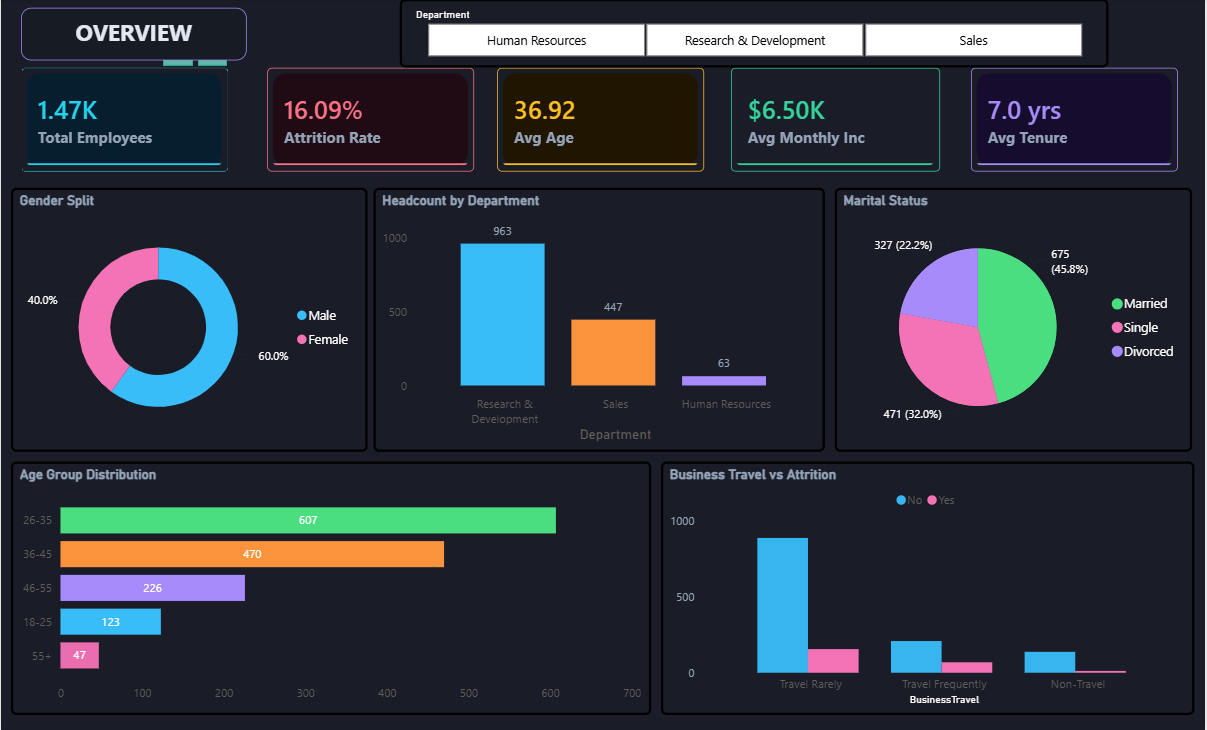

The page's visual inventory and layout, read from the dashboard file:
{"tool":"powerbi","page":{"name":"Overview","canvas":[1280,780],"ordinal":0},"visuals":[{"type":"cardVisual","fields":{"Data":["Count(HR_Analytics.EmpID)"]},"box":[21.3,73.1,220.7,110.3],"z":0},{"type":"cardVisual","fields":{"Data":["HR_Analytics.Avg Age"]},"box":[527.6,73.6,220,110],"z":1000},{"type":"cardVisual","fields":{"Data":["HR_Analytics.Avg Monthly Income"]},"box":[775.6,73.6,222,110],"z":2000},{"type":"cardVisual","fields":{"Data":["HR_Analytics.Attrition Rate"]},"box":[282.6,73.6,220,110],"z":3000},{"type":"cardVisual","fields":{"Data":["HR_Analytics.Avg Tenure"]},"box":[1031.6,73.6,220,110],"z":4000},{"type":"donutChart","title":"Gender Split","fields":{"Category":["HR_Analytics.Gender"],"Y":["HR_Analytics.Total Employees"]},"box":[10.6,200.7,378.8,280.5],"z":5000},{"type":"clusteredColumnChart","title":"Headcount by Department","fields":{"Y":["HR_Analytics.Total Employees"],"Category":["HR_Analytics.Department"]},"box":[396.1,200.7,479.9,280.5],"z":6000},{"type":"pieChart","title":"Marital Status","fields":{"Category":["HR_Analytics.MaritalStatus"],"Y":["HR_Analytics.Total Employees"]},"box":[886.6,200.7,380.2,280.5],"z":7000},{"type":"clusteredColumnChart","title":"Business Travel vs Attrition","fields":{"Category":["HR_Analytics.BusinessTravel"],"Y":["HR_Analytics.Total Employees"],"Series":["HR_Analytics.Attrition"]},"box":[701.8,491.8,567.6,269.8],"z":8000},{"type":"clusteredBarChart","title":"Age Group Distribution","fields":{"Category":["HR_Analytics.AgeGroup"],"Y":["HR_Analytics.Total Employees"]},"box":[10.6,491.8,680.6,269.8],"z":9000},{"type":"textbox","title":"Overview","box":[21,9,240,56],"z":10000},{"type":"slicer","fields":{"Values":["HR_Analytics.Department"]},"box":[424,0,753.7,73.1],"z":10001}]}

Visuals, with their boxes in screenshot pixels (x1, y1, x2, y2), scaled from the page's 1280x780 canvas onto the 1207x730 screenshot:
cardVisual - Count(HR_Analytics.EmpID): Rect(20, 68, 228, 172)
cardVisual - HR_Analytics.Avg Age: Rect(498, 69, 705, 172)
cardVisual - HR_Analytics.Avg Monthly Income: Rect(731, 69, 941, 172)
cardVisual - HR_Analytics.Attrition Rate: Rect(266, 69, 474, 172)
cardVisual - HR_Analytics.Avg Tenure: Rect(973, 69, 1180, 172)
"Gender Split" donutChart: Rect(10, 188, 367, 450)
"Headcount by Department" clusteredColumnChart: Rect(374, 188, 826, 450)
"Marital Status" pieChart: Rect(836, 188, 1195, 450)
"Business Travel vs Attrition" clusteredColumnChart: Rect(662, 460, 1197, 713)
"Age Group Distribution" clusteredBarChart: Rect(10, 460, 652, 713)
"Overview" textbox: Rect(20, 8, 246, 61)
slicer - HR_Analytics.Department: Rect(400, 0, 1111, 68)
